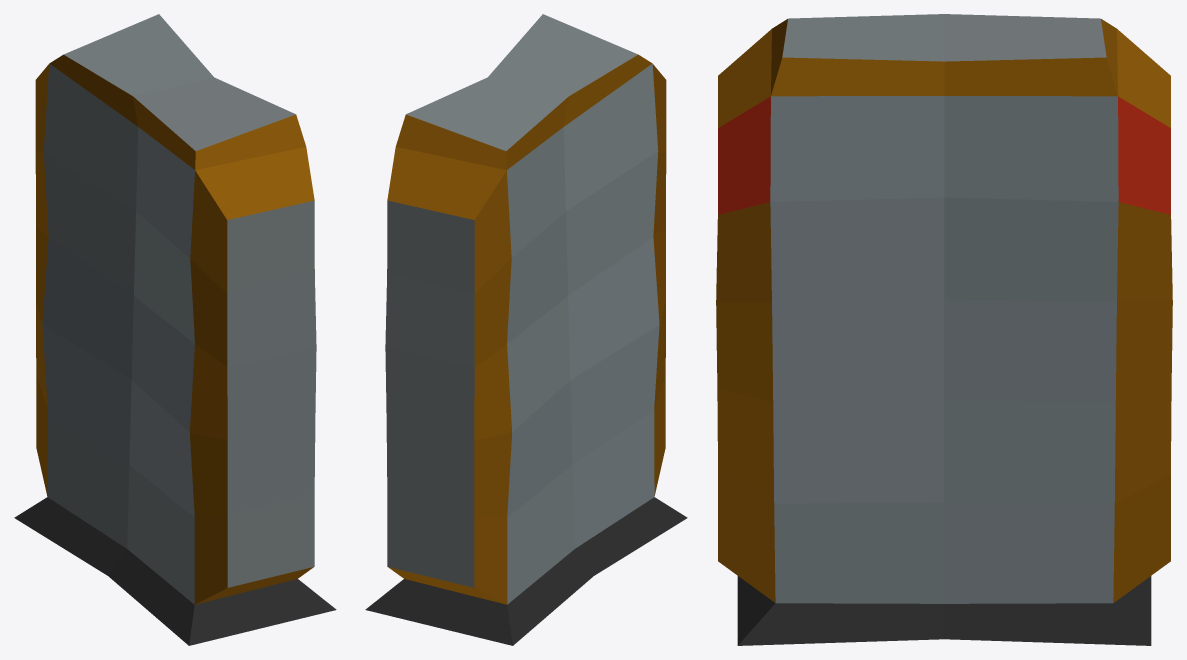
The model's file is first_tablet.glb.
The picture shows the model from 3 angles, left to right: view 1: azimuth 30°, elevation 25°; view 2: azimuth 150°, elevation 25°; view 3: azimuth 270°, elevation 25°; orthographic projection. The views are drawn at different scales.
Parts seen in each view (by area): view 1: Cube; view 2: Cube; view 3: Cube.
Boxes of the visible parts, <box> form: Cube: <box>14,14,336,645</box>; Cube: <box>365,14,687,645</box>; Cube: <box>716,14,1172,645</box>.
Size of the model in its own units: 0.144 by 0.4533 by 0.3259.
1 material, 1 textured.
